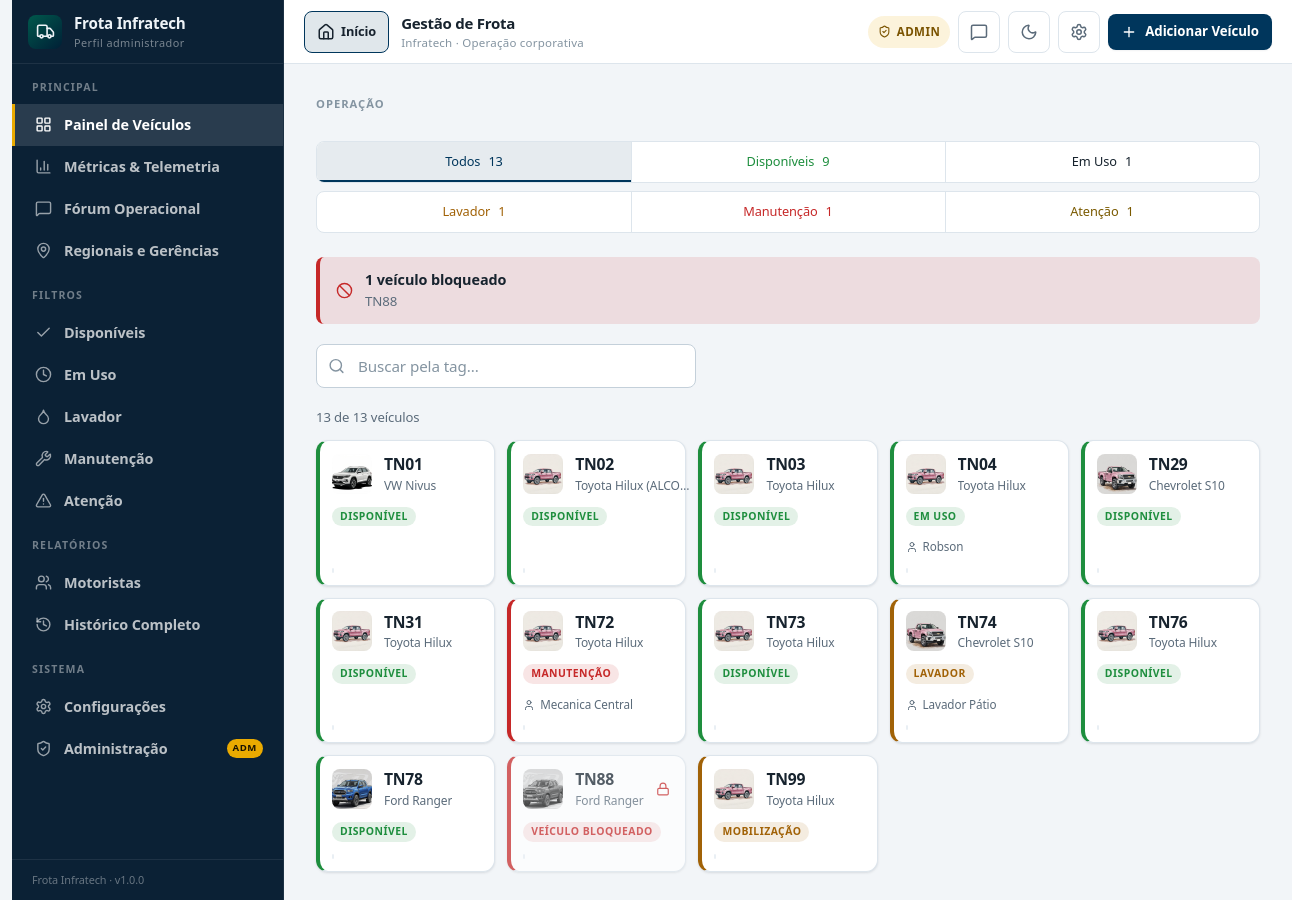
Aplicação — operação › sai do modo administrador pelas configurações
This screenshot has width=1292, height=900.
Expected: the text "Admin" is shown, [897,23,940,40]
Click the button "Configurações": (148, 706) [12,685,283,727]
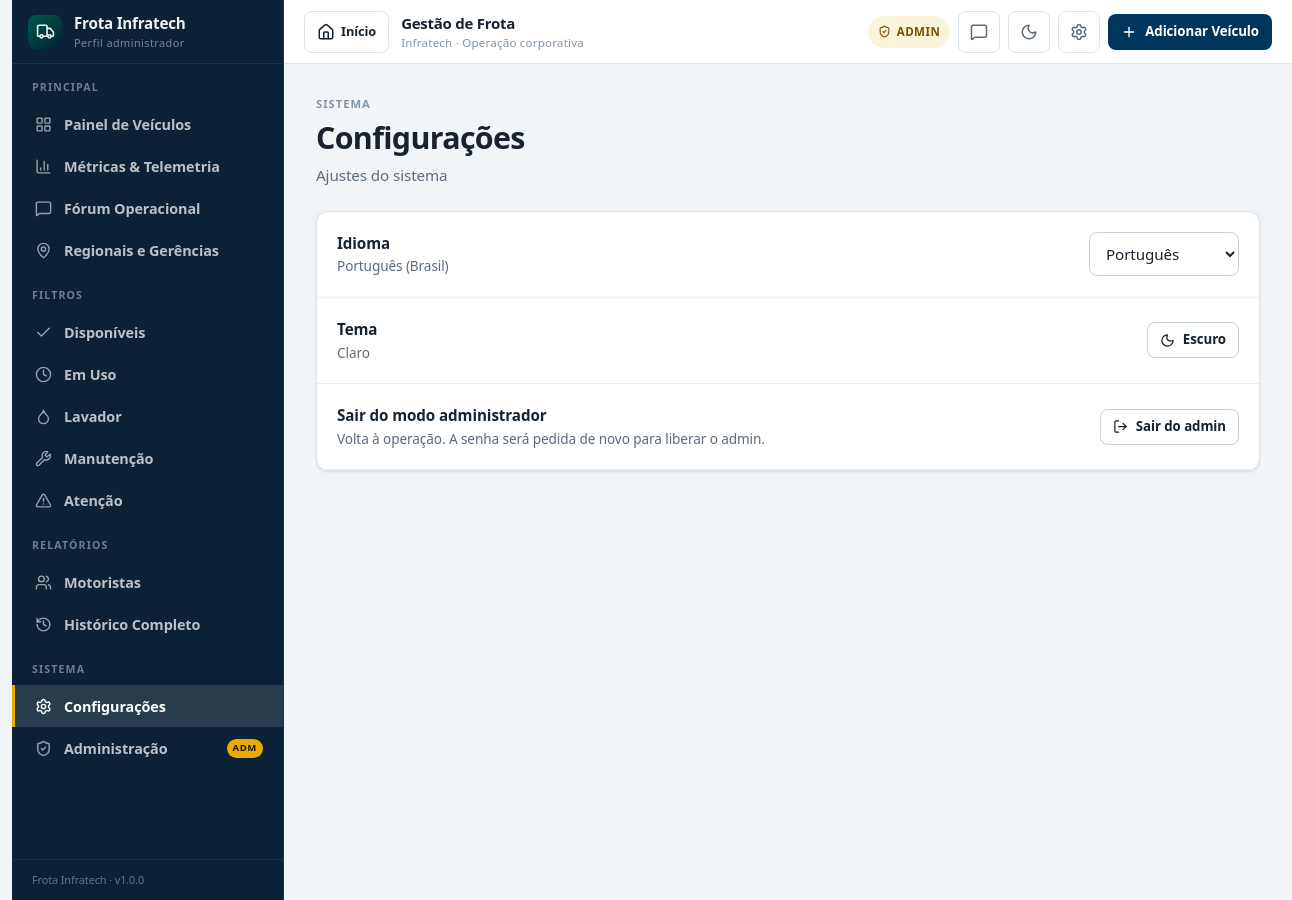
Click the button "Sair do admin": (1169, 426) [1100,408,1239,444]
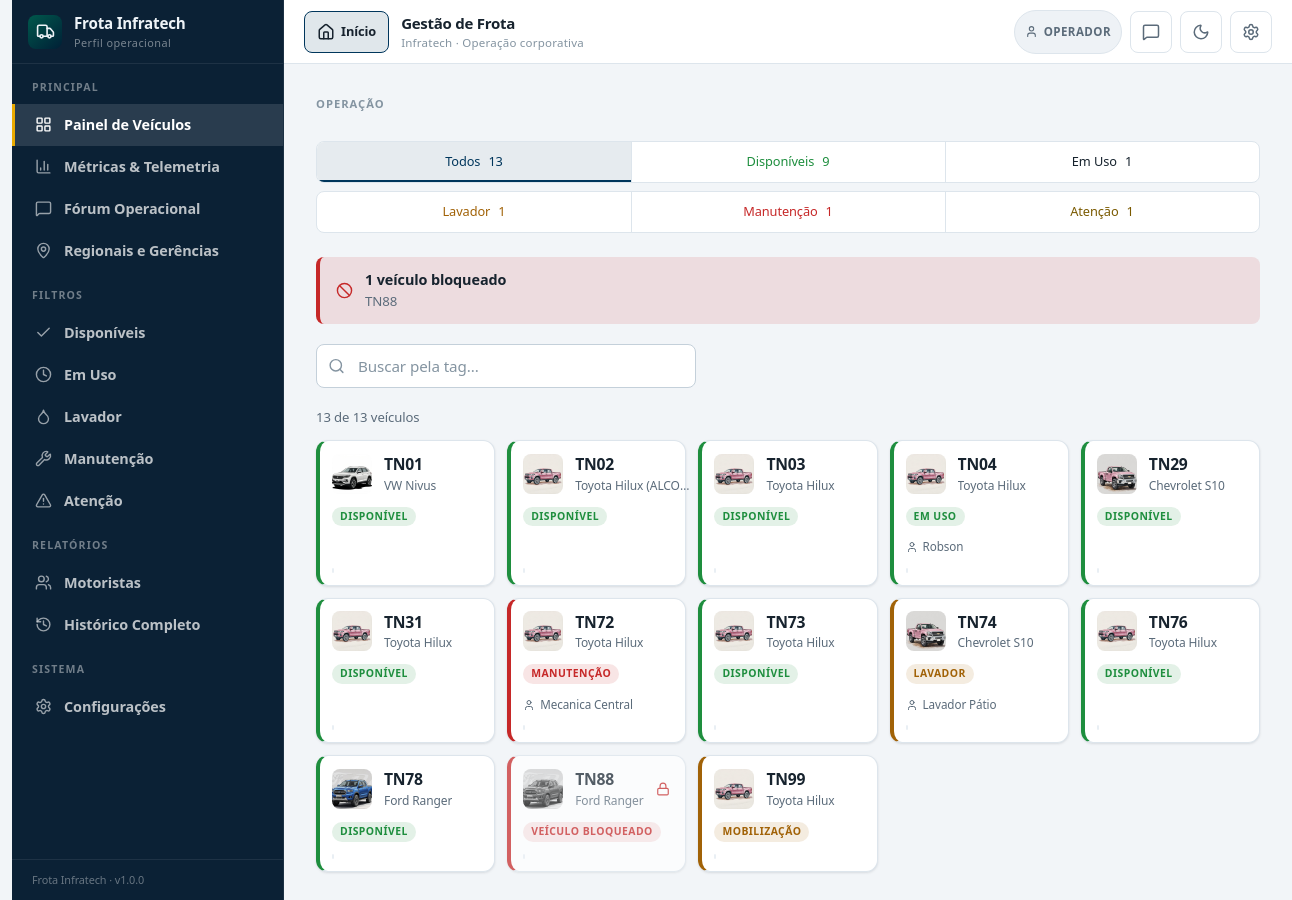
Now the text "admin" is gone
Now the button with aria-label "Entrar como administrador" is shown, box [1014,10,1122,54]
